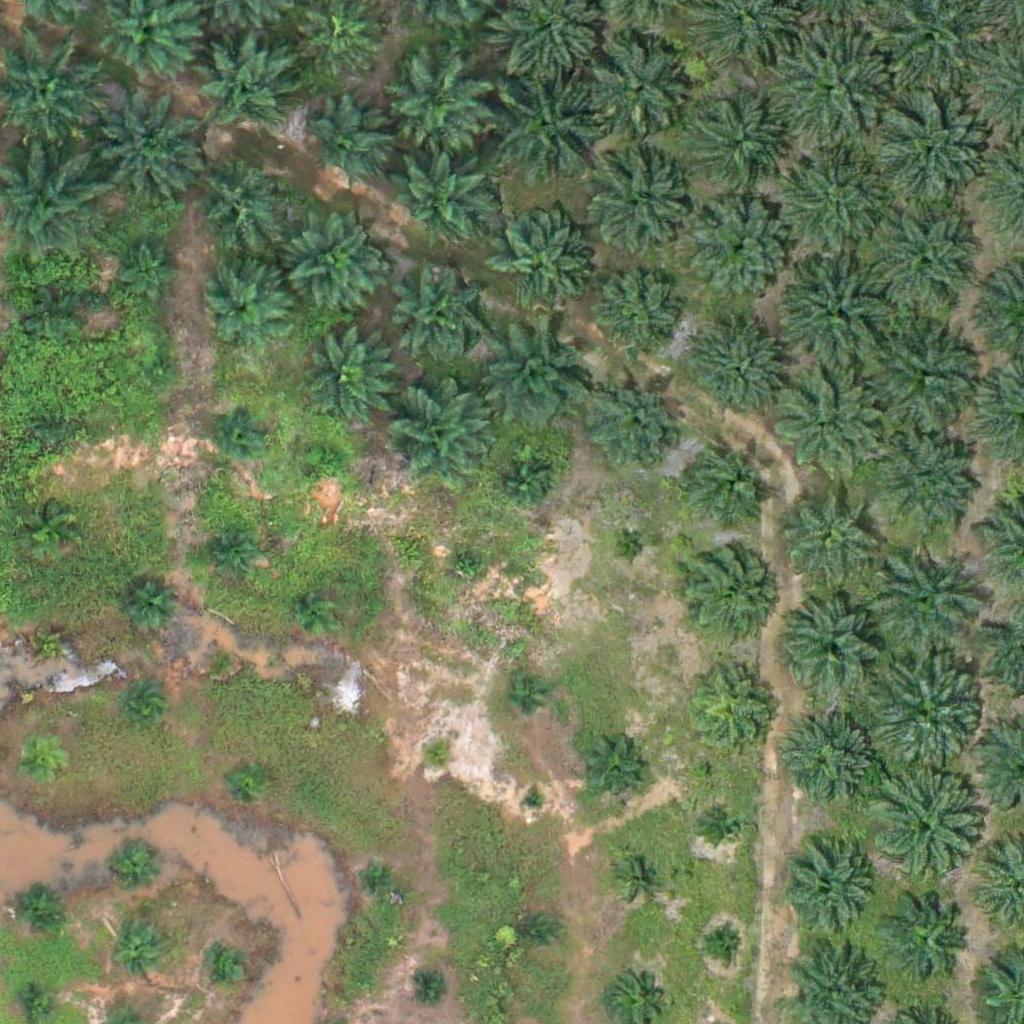Kelapa_Sawit: (772, 249, 897, 375), (769, 142, 894, 268), (769, 20, 894, 146), (870, 93, 995, 219), (863, 313, 988, 439), (861, 650, 986, 775), (861, 769, 986, 894), (92, 94, 205, 207), (492, 73, 605, 186), (483, 322, 596, 435), (868, 206, 981, 319), (870, 427, 983, 540), (867, 545, 980, 658), (772, 372, 884, 485), (390, 146, 490, 247), (285, 215, 385, 316), (196, 33, 296, 134), (189, 152, 289, 253), (491, 213, 591, 314), (588, 161, 688, 262), (586, 40, 686, 141), (692, 199, 792, 300), (688, 324, 788, 425), (774, 478, 874, 579), (785, 595, 885, 696), (782, 714, 882, 815), (779, 842, 879, 943), (677, 433, 777, 534), (679, 539, 779, 640), (684, 660, 784, 761), (390, 387, 490, 488), (386, 56, 486, 156), (293, 327, 393, 427), (305, 100, 393, 188), (392, 270, 480, 358), (695, 104, 783, 192), (886, 897, 974, 985), (203, 267, 290, 356), (592, 378, 679, 467), (591, 271, 678, 359), (579, 741, 642, 804), (119, 235, 181, 298), (23, 504, 73, 555), (120, 584, 170, 635), (15, 741, 65, 792), (110, 842, 160, 893), (498, 455, 548, 506), (609, 971, 659, 1022), (28, 613, 78, 664), (8, 881, 58, 931), (115, 926, 165, 976), (30, 293, 80, 343), (204, 529, 254, 579), (217, 406, 267, 456), (515, 913, 553, 951), (307, 441, 345, 479), (298, 592, 336, 630), (450, 548, 488, 586), (612, 529, 650, 567), (418, 738, 456, 776), (20, 983, 58, 1021), (709, 807, 747, 845), (208, 950, 245, 988), (703, 924, 740, 962), (621, 857, 658, 895), (415, 968, 453, 1005), (36, 408, 73, 446), (141, 353, 178, 391), (502, 677, 539, 715), (199, 638, 236, 676), (125, 688, 162, 725), (230, 761, 267, 798), (361, 859, 398, 896), (521, 787, 546, 812)
